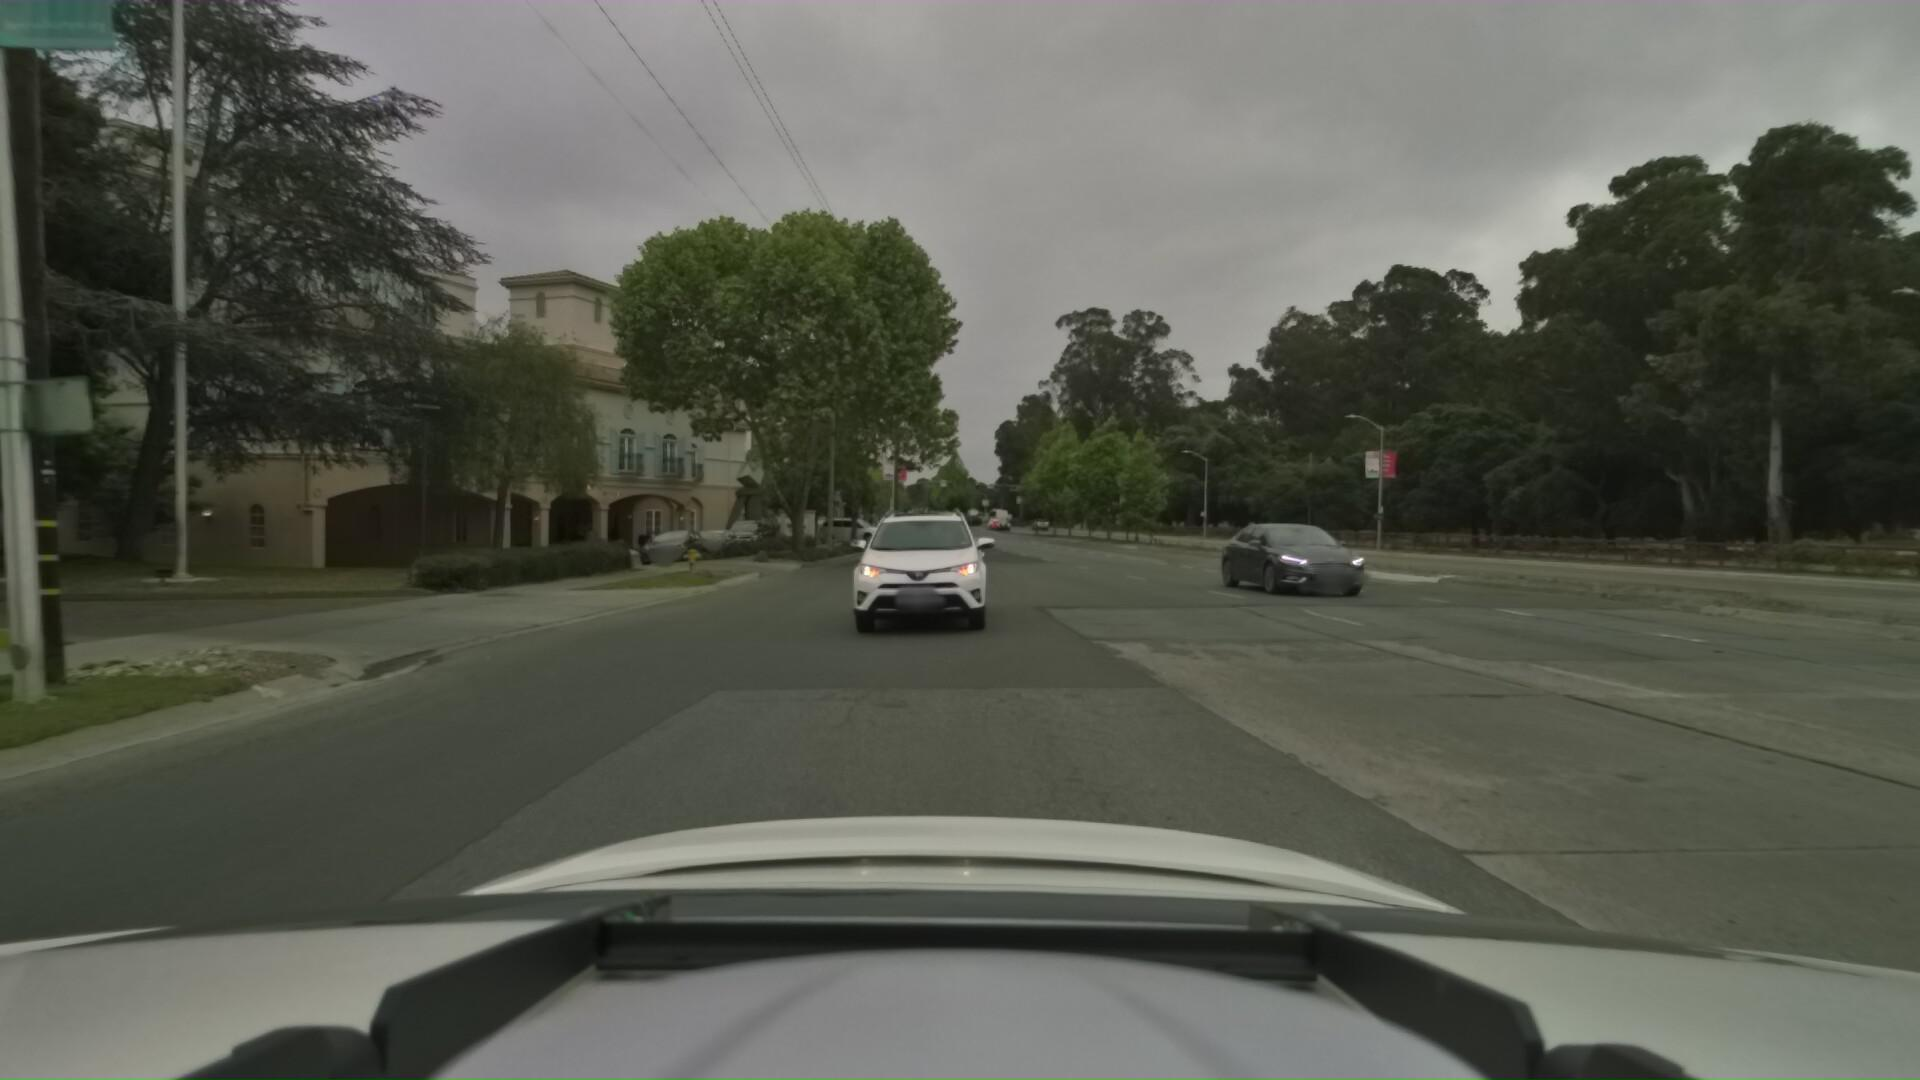car: (831, 502, 1002, 646), (1189, 508, 1348, 589), (645, 521, 720, 556), (719, 512, 785, 551), (684, 521, 749, 556), (812, 512, 887, 541), (877, 513, 926, 535)
